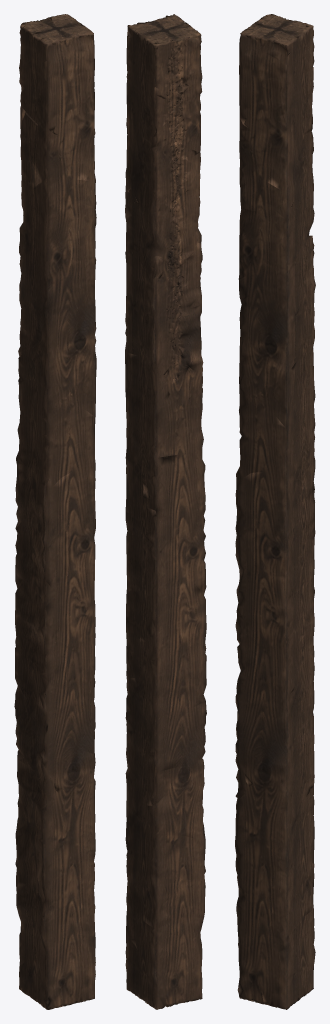
File: ck_timber_post-original.glb
3 renders of one model, left to right at view 1: azimuth 30°, elevation 25°; view 2: azimuth 210°, elevation 25°; view 3: azimuth 330°, elevation 25°, orthographic.
Bounding box in the file's own units: 0.0552 × 0.9502 × 0.0537.
1 material, 1 textured.
